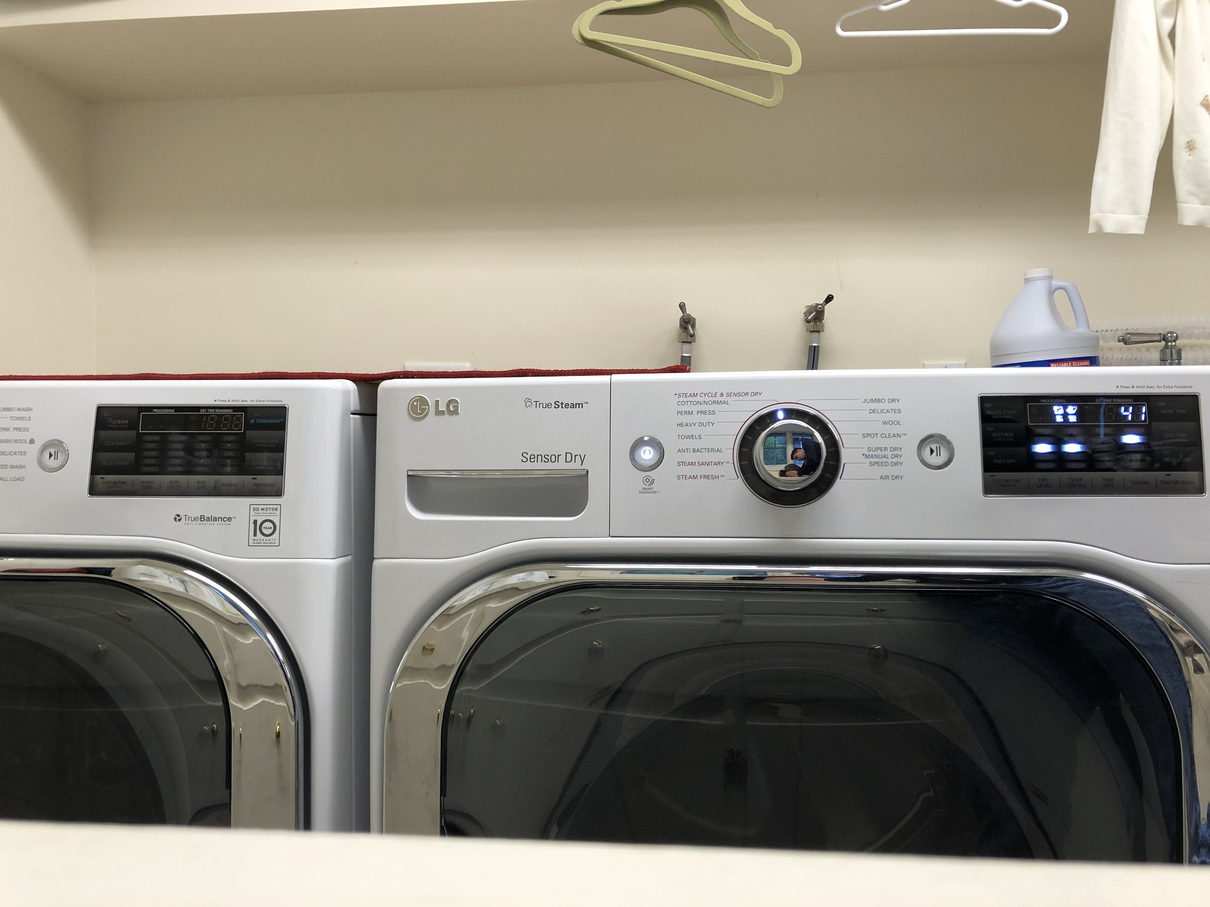status: (1021, 396, 1149, 431)
